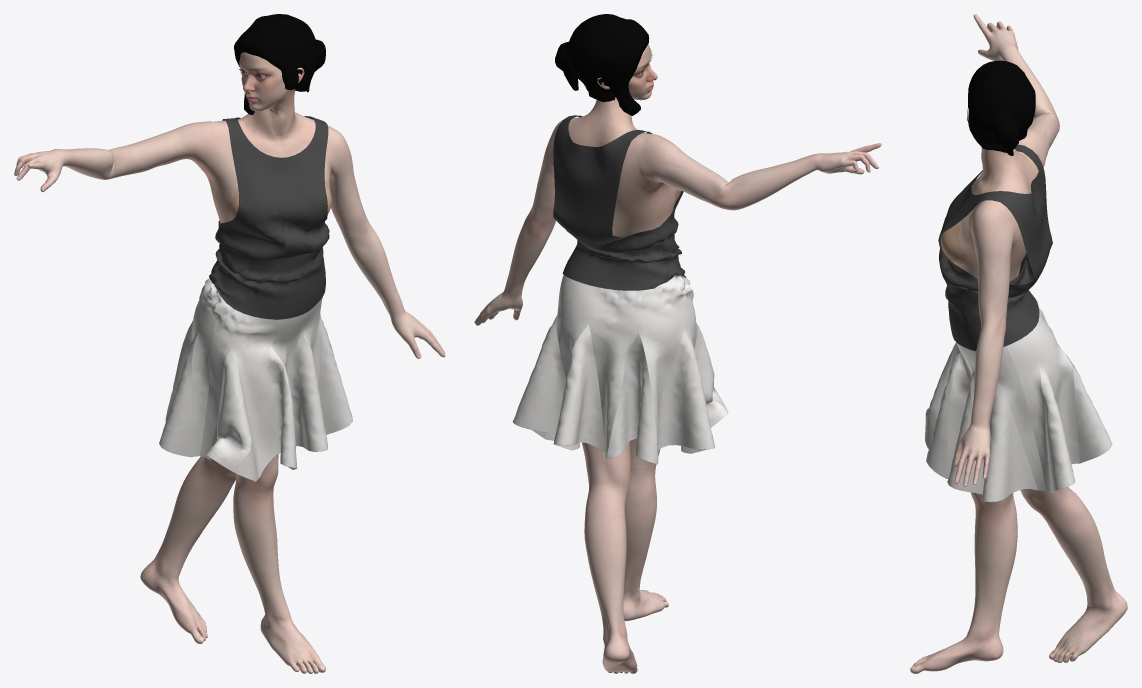
File: Custom_View_0__Dynamic.obj
3 renders of one model, left to right at view 1: azimuth 30°, elevation 25°; view 2: azimuth 150°, elevation 25°; view 3: azimuth 270°, elevation 25°, orthographic. The views are drawn at different scales.
Size of the model in its own units: 1226 by 1775 by 569.
